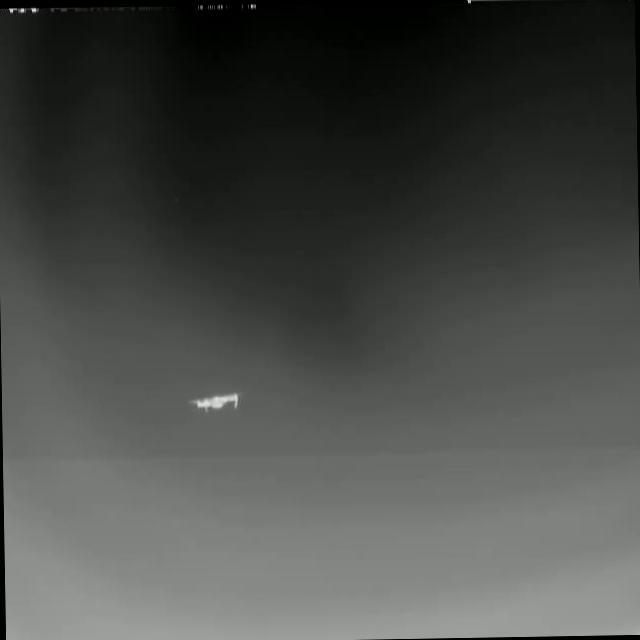DRONE: (182, 381, 249, 422)
